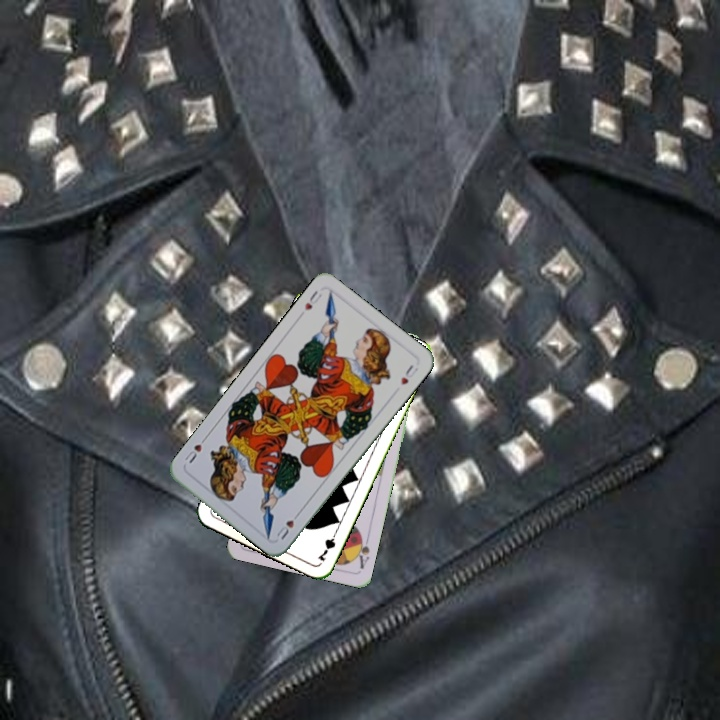G7: (314, 526, 340, 564)
HU: (272, 507, 303, 542), (300, 286, 324, 313)
SA: (350, 530, 372, 571)
